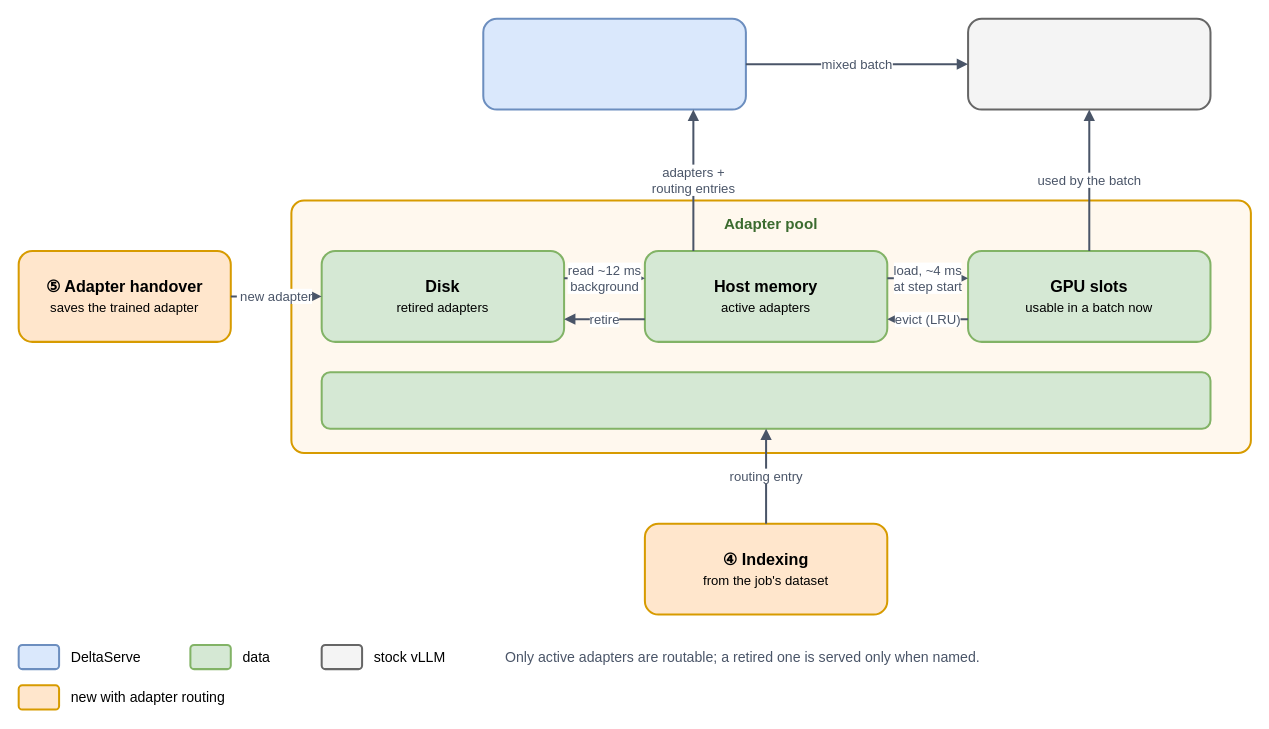
Image size: 1269x729. Some labels were removed from this diagram. Each missing label, with the centre of its shape:
Routing index — one entry per active adapter: pixel 765 400
SLO-aware scheduler picks the adapter, plans its load: pixel 614 63
② Forward engine batch: pixel 1089 63
